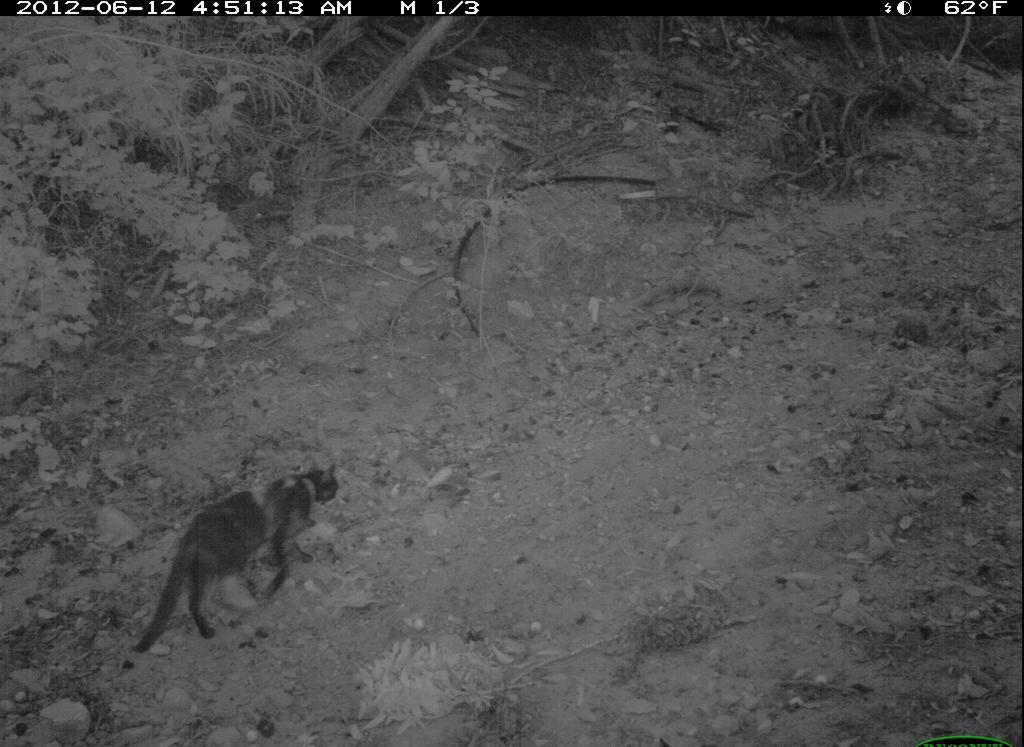cat: (120, 447, 342, 662)
